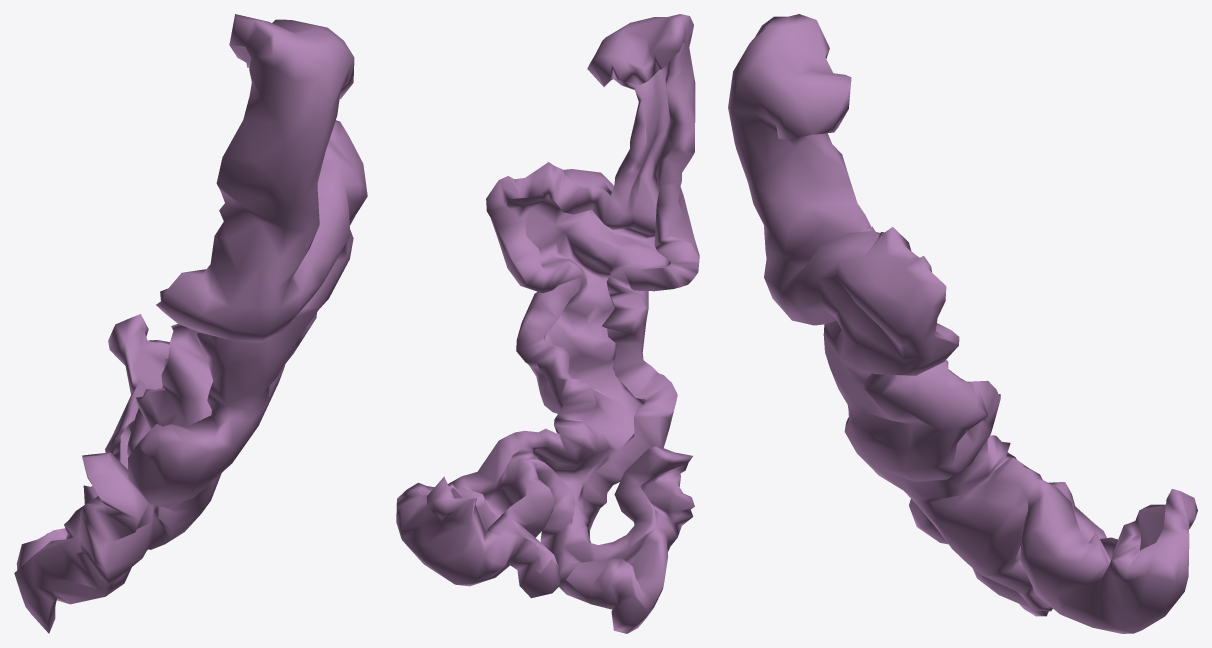
The picture shows the model from 3 angles, left to right: view 1: azimuth 30°, elevation 25°; view 2: azimuth 150°, elevation 25°; view 3: azimuth 270°, elevation 25°; orthographic projection. The views are drawn at different scales.
Visible parts, largest first — view 1: 左侧额中回; view 2: 左侧额中回; view 3: 左侧额中回.
Part boxes in pixels (x1,y1,x2,y2): 左侧额中回: (14,14,367,633); 左侧额中回: (396,14,699,633); 左侧额中回: (728,14,1197,633).
Bounding box in the file's own units: 0.0579 × 0.134 × 0.0907.
